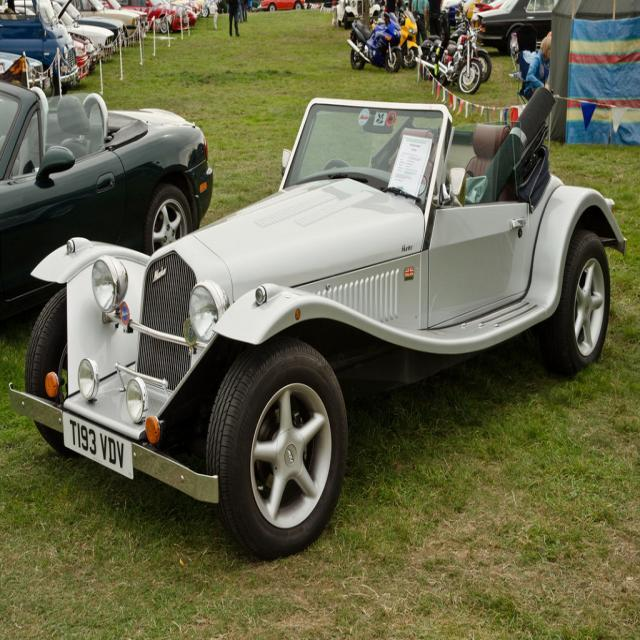truck: (9, 96, 629, 562), (0, 78, 211, 316), (0, 0, 219, 93), (443, 0, 558, 58), (260, 0, 306, 14)
